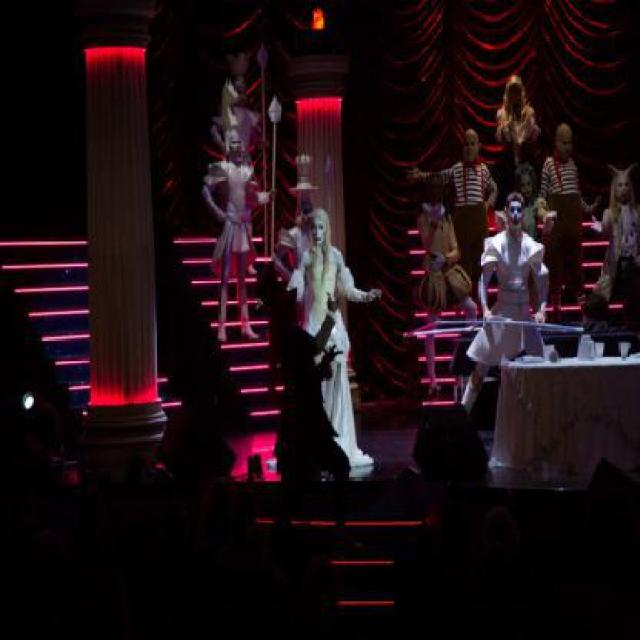Person: (202, 70, 640, 556)
